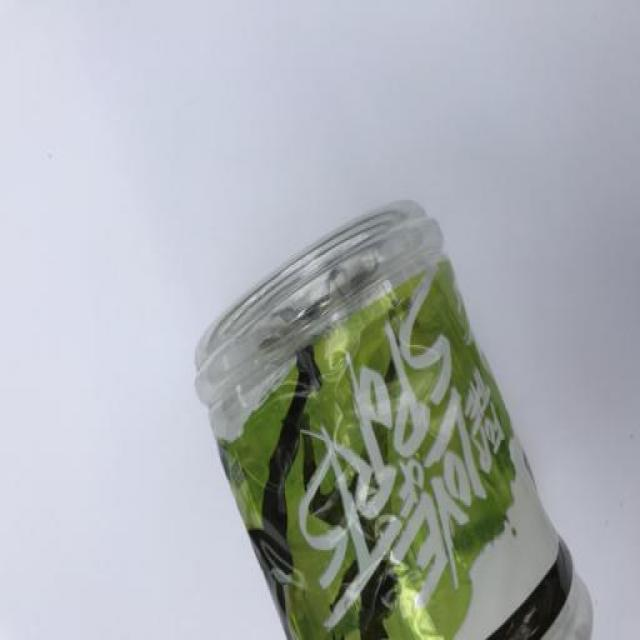Waste: (198, 203, 594, 639)
